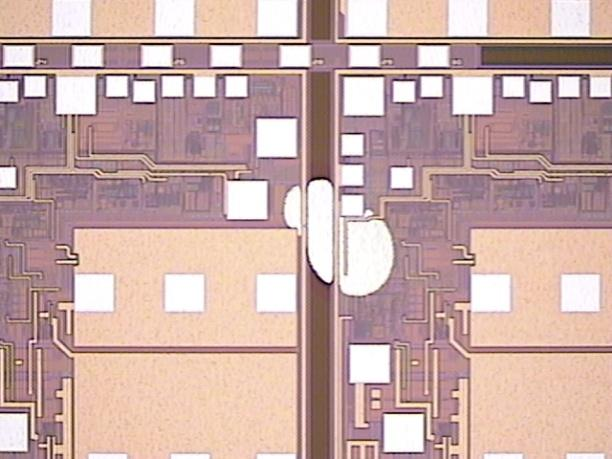BLOCK ETCH: (280, 176, 400, 299)
